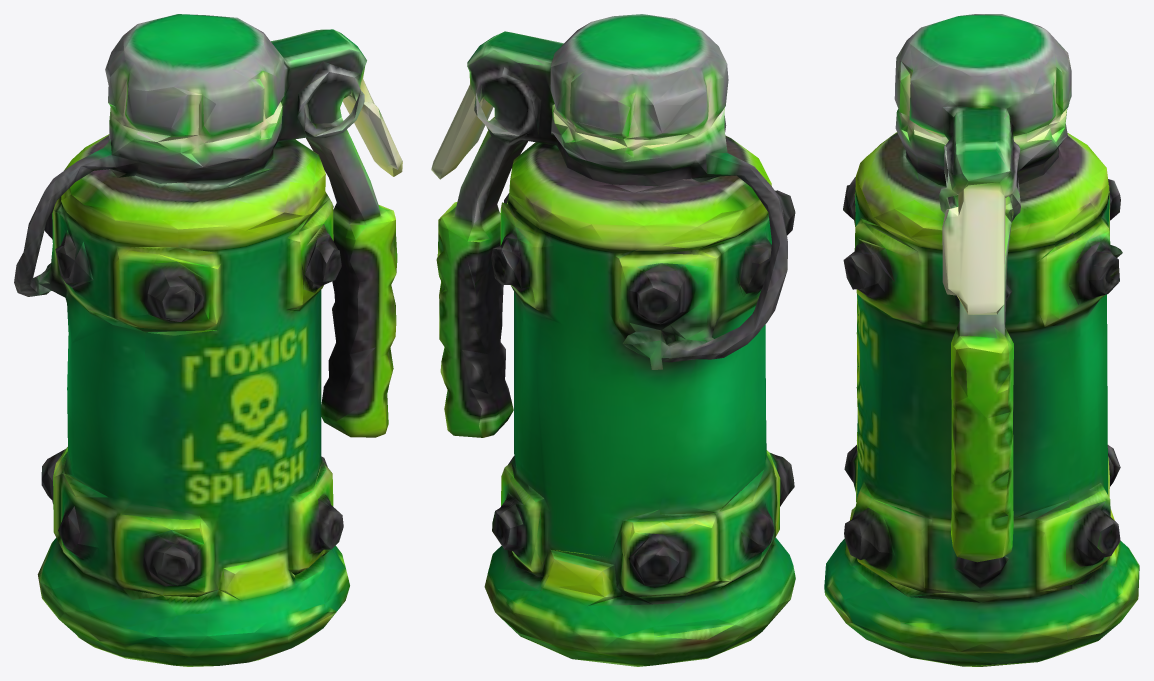
Rendered from toxic_splash.glb.
3 views of the same model, side by side, from view 1: azimuth 30°, elevation 25°; view 2: azimuth 150°, elevation 25°; view 3: azimuth 270°, elevation 25° (orthographic).
Parts seen in each view (by area): view 1: model; view 2: model; view 3: model.
Boxes of the visible parts, x1,y1,x2,y2 form: model: (14,14,402,666); model: (431,14,795,666); model: (824,14,1139,666).
Bounding box in the file's own units: 0.0992 × 0.15 × 0.0747.
Materials: 1 (1 with a texture image).
